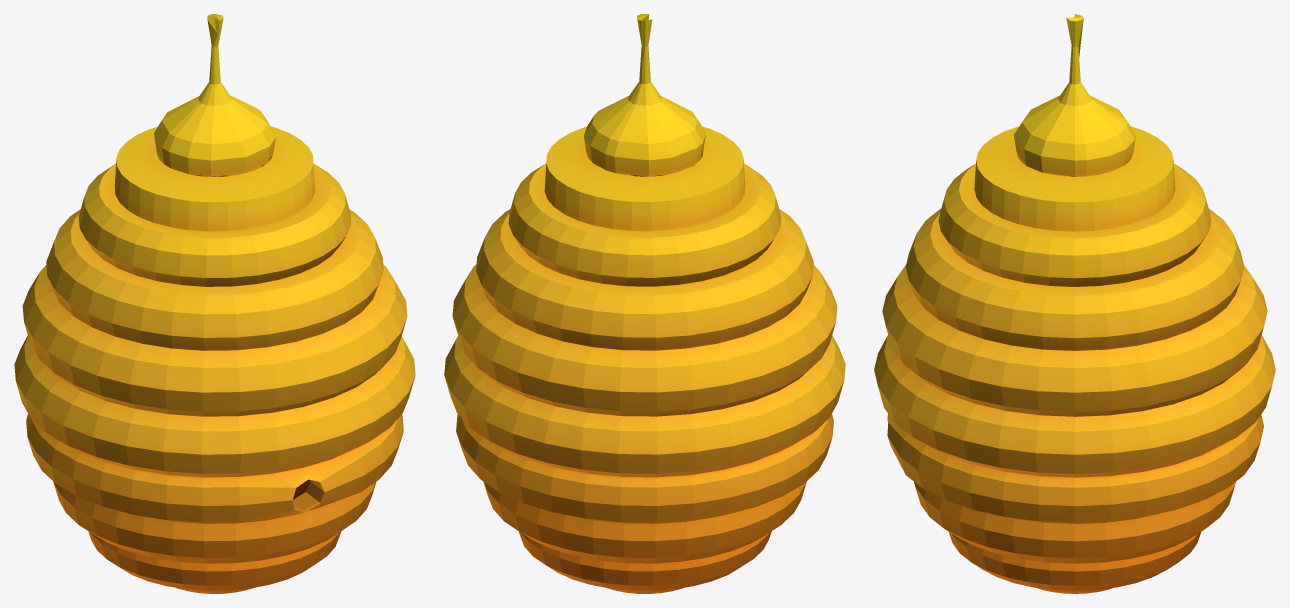
The model's file is beehive.fbx.
The picture shows the model from 3 angles, left to right: view 1: azimuth 30°, elevation 25°; view 2: azimuth 150°, elevation 25°; view 3: azimuth 270°, elevation 25°; orthographic projection.
Parts seen in each view (by area): view 1: beehive; view 2: beehive; view 3: beehive.
Boxes of the visible parts, x1,y1,x2,y2 form: beehive: (14, 14, 415, 593); beehive: (444, 14, 845, 593); beehive: (874, 14, 1275, 593).
Size of the model in its own units: 60.14 by 90.98 by 60.14.
1 material, 1 textured.
